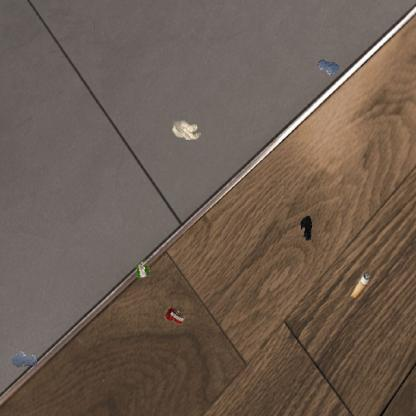dirty: (350, 270, 372, 300), (172, 119, 201, 140), (162, 305, 186, 327), (298, 213, 314, 242), (134, 258, 152, 280)
liquid: (10, 350, 39, 368), (317, 59, 339, 76)
